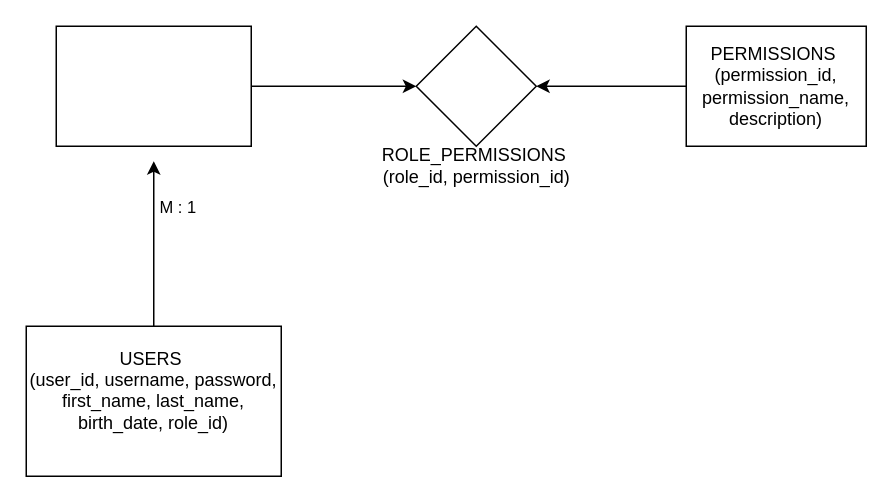
This 893x503 diagram has some shape labels left out. The centre of each missing label's shape, as x and y in pixels:
M : M: the point at 475,85
ROLES (role_id, role_name, description): the point at 153,85
